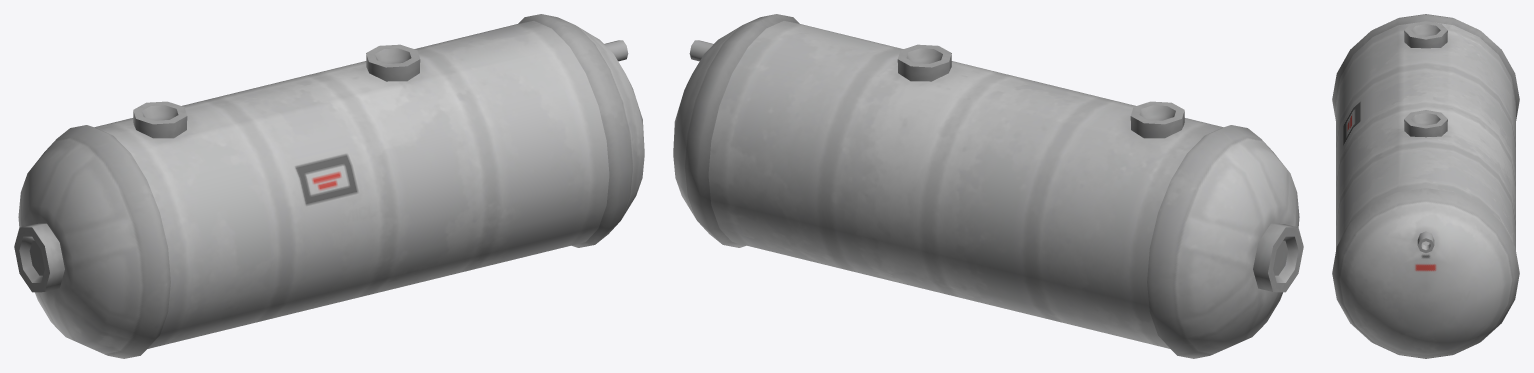
Rendered from Pfb_WaterTank.fbx.
The picture shows the model from 3 angles, left to right: view 1: azimuth 30°, elevation 25°; view 2: azimuth 150°, elevation 25°; view 3: azimuth 270°, elevation 25°; orthographic projection. The views are drawn at different scales.
Visible parts, largest first — view 1: Mat_WaterTank_01_B1; view 2: Mat_WaterTank_01_B1; view 3: Mat_WaterTank_01_B1.
Part boxes in pixels (bbox=[...]): Mat_WaterTank_01_B1: bbox=[14, 14, 644, 358]; Mat_WaterTank_01_B1: bbox=[673, 14, 1303, 358]; Mat_WaterTank_01_B1: bbox=[1332, 14, 1519, 358].
Size of the model in its own units: 9.76 by 3.54 by 3.44.
Materials: 1 (1 with a texture image).
